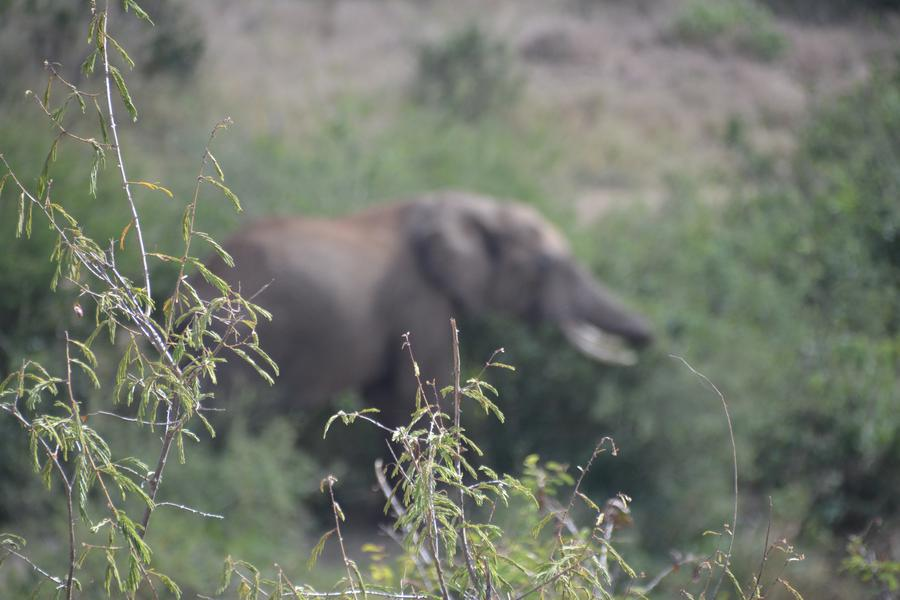elephant: (179, 207, 618, 460)
